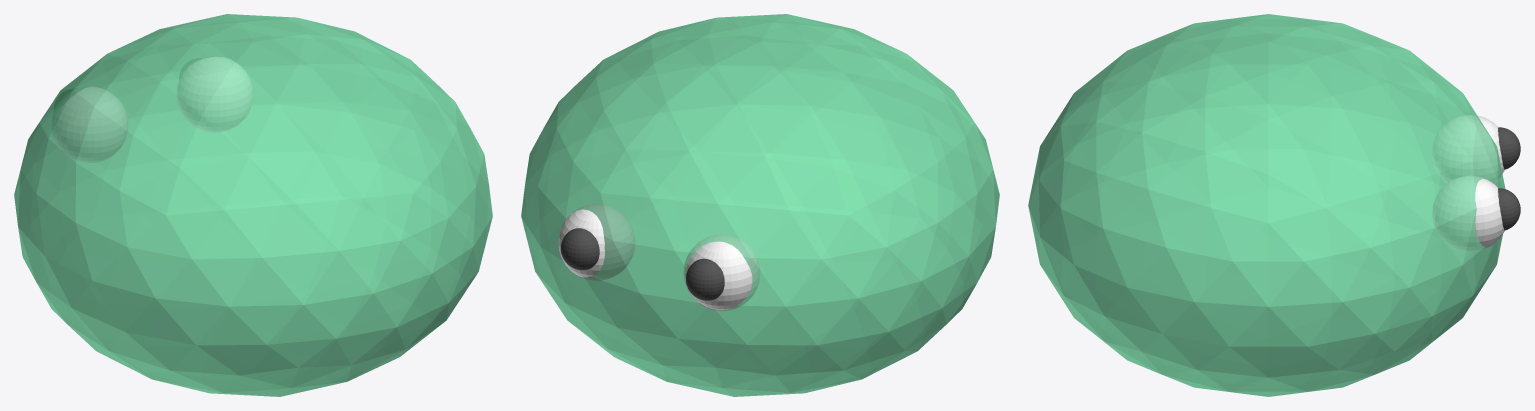
The model's file is doll_slime.glb.
3 renders of one model, left to right at view 1: azimuth 30°, elevation 25°; view 2: azimuth 150°, elevation 25°; view 3: azimuth 270°, elevation 25°, orthographic.
Visible parts, largest first — view 1: Slime_Body, EyeWhite_0.15, EyeWhite_-0.15; view 2: Slime_Body, EyeWhite_0.15, EyeWhite_-0.15, Pupil_-0.15, Pupil_0.15; view 3: Slime_Body, EyeWhite_0.15, EyeWhite_-0.15, Pupil_-0.15, Pupil_0.15.
Part boxes in pixels (<box>): Slime_Body: <box>14,14,492,396</box>; EyeWhite_0.15: <box>177,56,252,132</box>; EyeWhite_-0.15: <box>54,87,127,162</box>; Slime_Body: <box>521,14,999,396</box>; EyeWhite_0.15: <box>558,204,634,280</box>; EyeWhite_-0.15: <box>684,234,759,310</box>; Pupil_-0.15: <box>686,258,724,300</box>; Pupil_0.15: <box>560,228,599,270</box>; Slime_Body: <box>1028,14,1505,396</box>; EyeWhite_0.15: <box>1432,176,1504,252</box>; EyeWhite_-0.15: <box>1432,115,1504,183</box>; Pupil_-0.15: <box>1498,127,1520,169</box>; Pupil_0.15: <box>1498,188,1520,230</box>.
Size of the model in its own units: 1 by 0.75 by 1.02.
